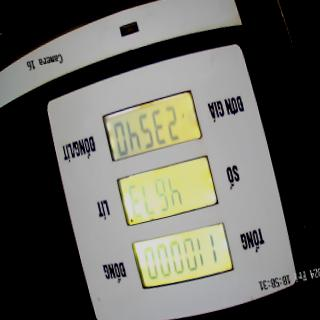screen: (98, 86, 236, 295)
